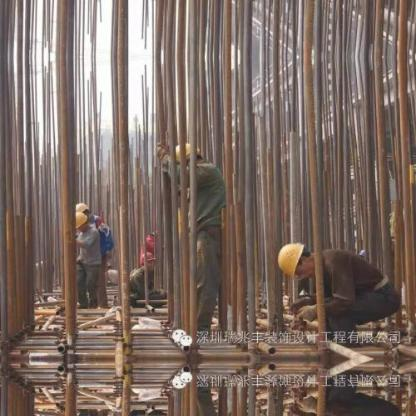helmet: (276, 238, 306, 279), (171, 141, 203, 169), (74, 210, 90, 232), (75, 202, 93, 213)
